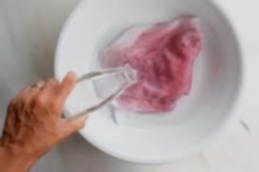wine: (106, 23, 197, 114)
